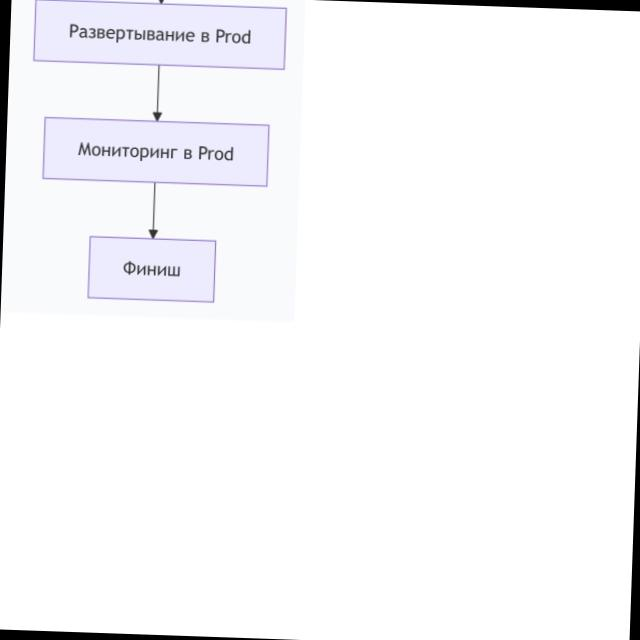arrow: (150, 67, 166, 121), (145, 182, 160, 238)
rectangle: (31, 0, 287, 70), (42, 116, 270, 186), (86, 235, 216, 302)
